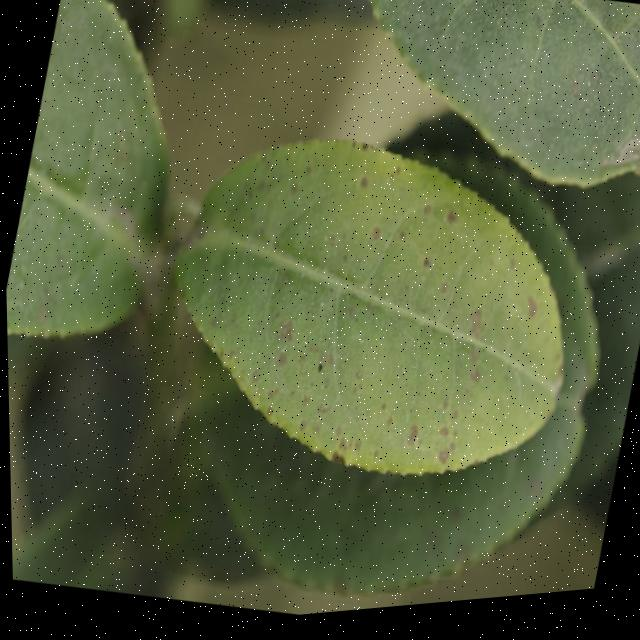Tea red scab: (182, 113, 584, 503)
